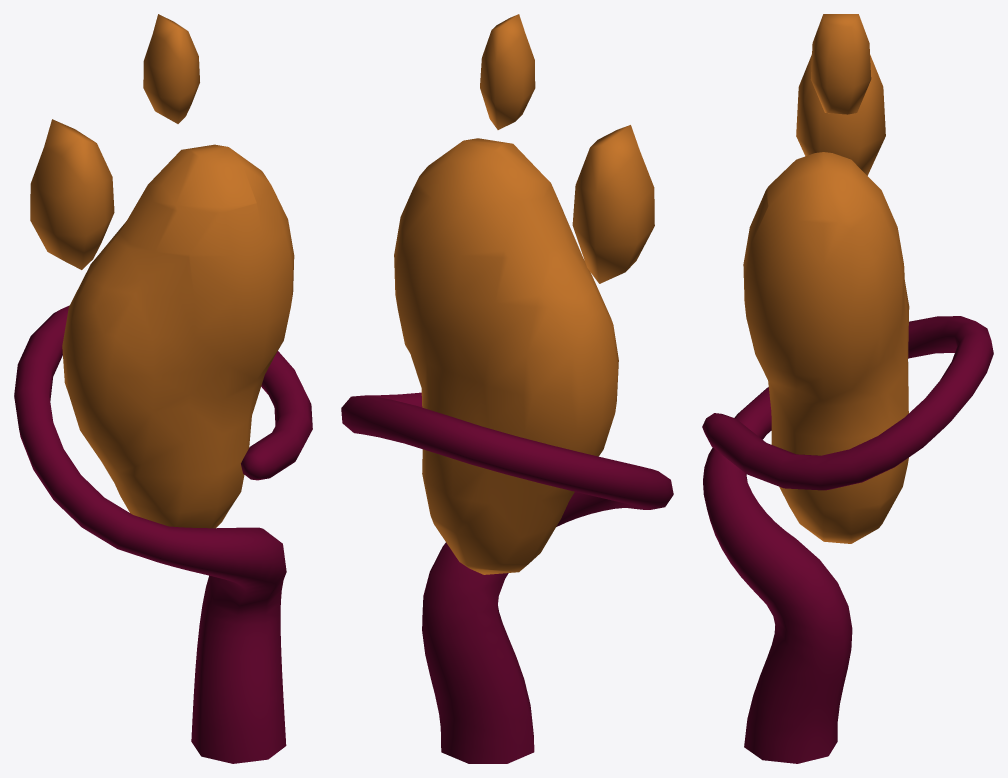
Rendered from Tree Lava-sTYjmQObr1.glb.
3 views of the same model, side by side, from view 1: azimuth 30°, elevation 25°; view 2: azimuth 150°, elevation 25°; view 3: azimuth 270°, elevation 25° (orthographic). The views are drawn at different scales.
Parts seen in each view (by area): view 1: Tree_Lava_2; view 2: Tree_Lava_2; view 3: Tree_Lava_2.
Part boxes in pixels (box(x1,y1,x2,y2)): Tree_Lava_2: box(14, 14, 312, 763); Tree_Lava_2: box(341, 14, 673, 763); Tree_Lava_2: box(702, 14, 993, 763).
Bounding box in the file's own units: 1.23 × 3.08 × 1.15.
Materials: 1 (1 with a texture image).
